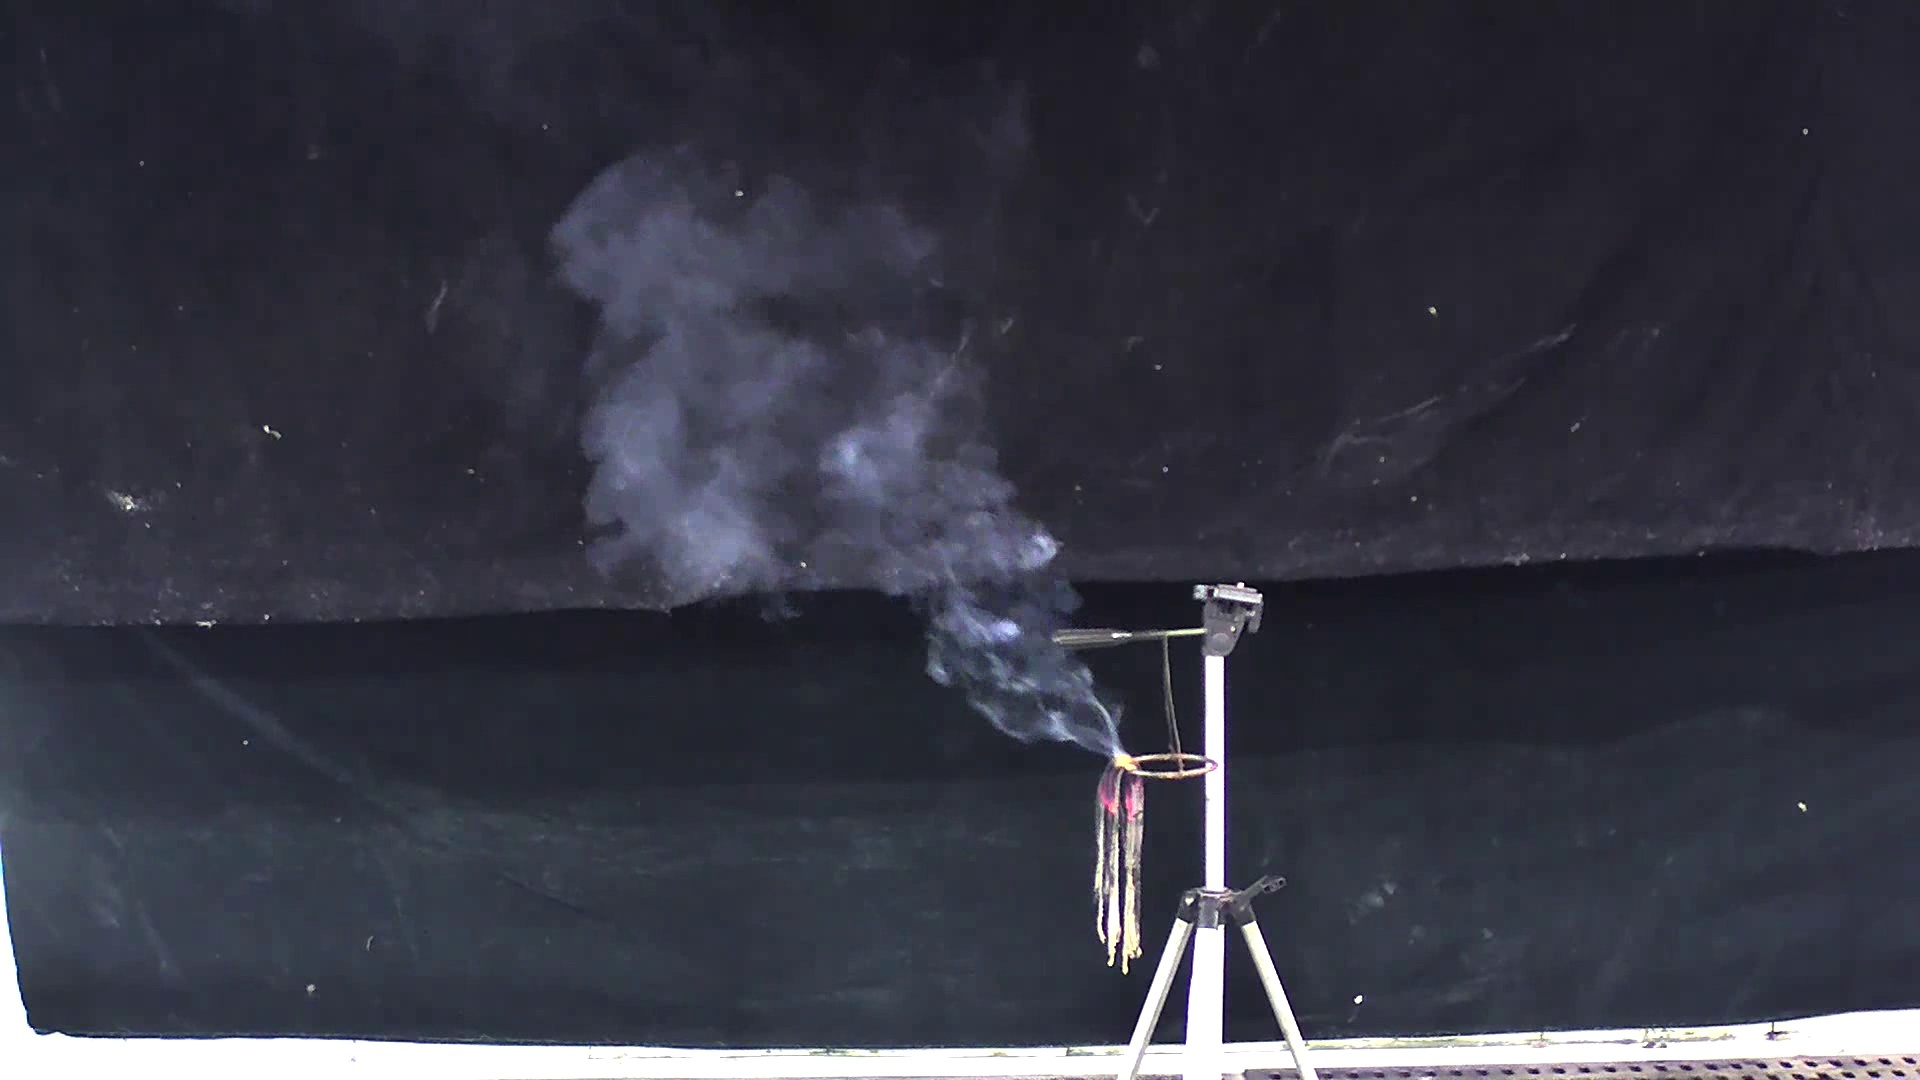smoke: (533, 128, 1127, 752)
